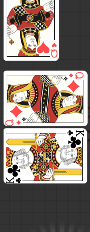9D: (68, 71, 86, 79)
KC: (65, 129, 85, 138)
